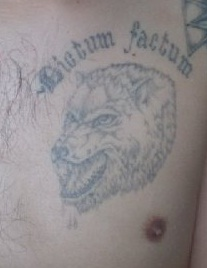tatu3_bukva: (19, 8, 207, 90)
tatu5_tigr: (28, 64, 201, 214)
